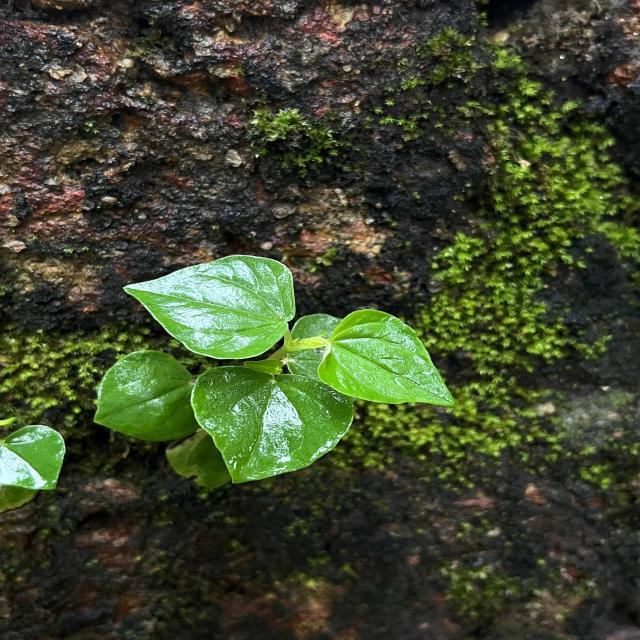Peperomia pellucida: (188, 363, 356, 487), (119, 252, 298, 362), (314, 306, 458, 408)
